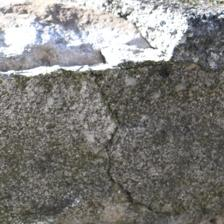Crack: (91, 78, 179, 217)
